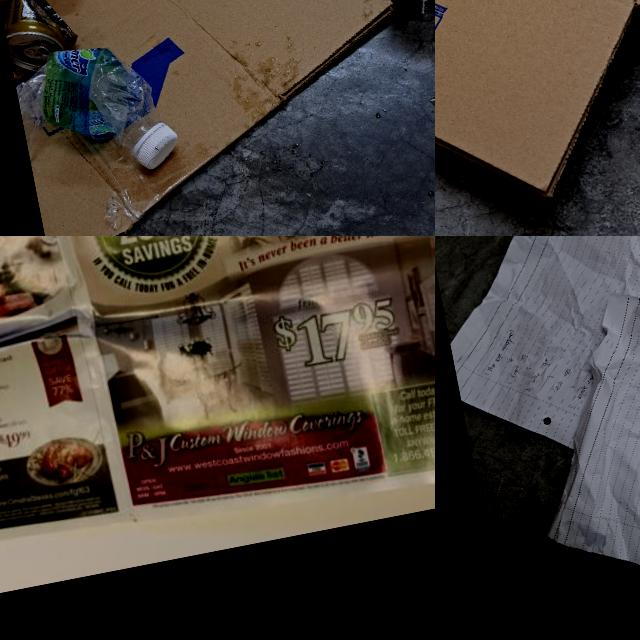garrafa plástica: (11, 30, 182, 196)
lata: (0, 0, 85, 91)
papel: (0, 236, 435, 593), (502, 240, 640, 640), (435, 236, 640, 470)
papelão: (0, 0, 435, 236), (435, 0, 640, 236)
tampa plástica: (130, 118, 180, 172)
